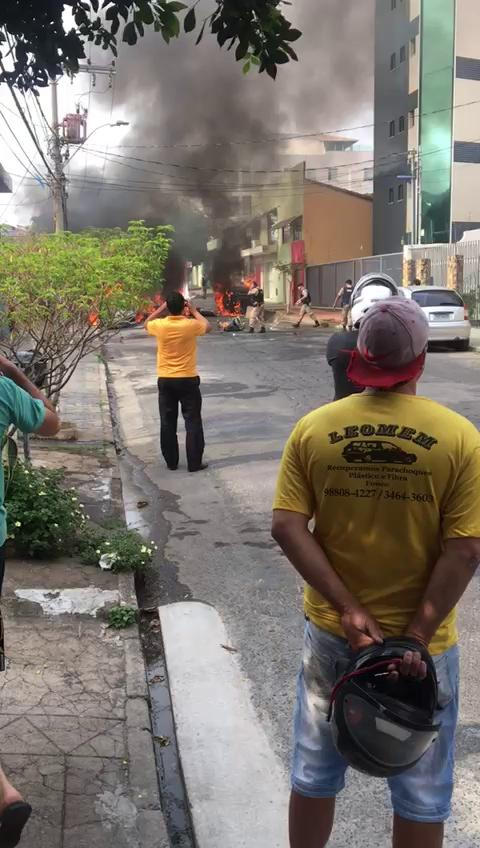smoke: (136, 52, 266, 196)
